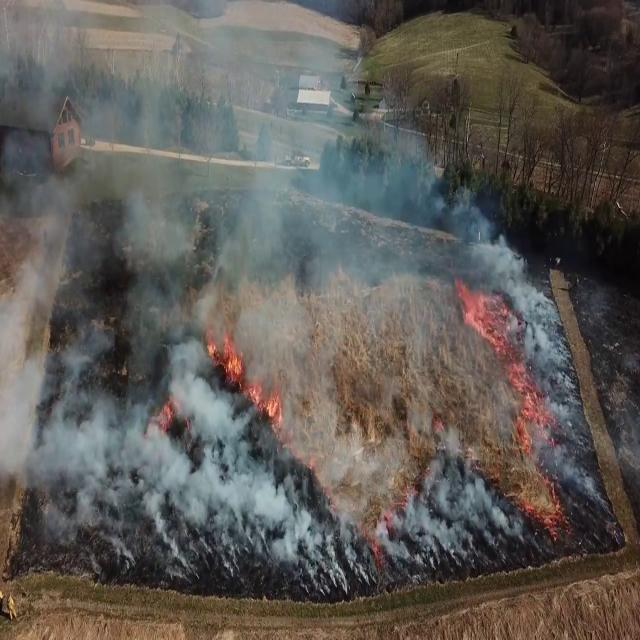Fire: (219, 330, 285, 432)
Smoke: (1, 16, 540, 572)
